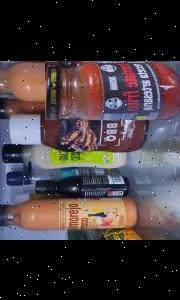Salsa de tomate: (45, 61, 180, 119)
